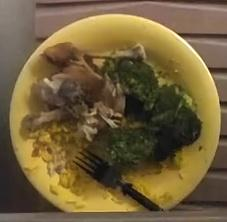broccoli: (102, 59, 201, 164)
rice: (29, 121, 98, 188)
